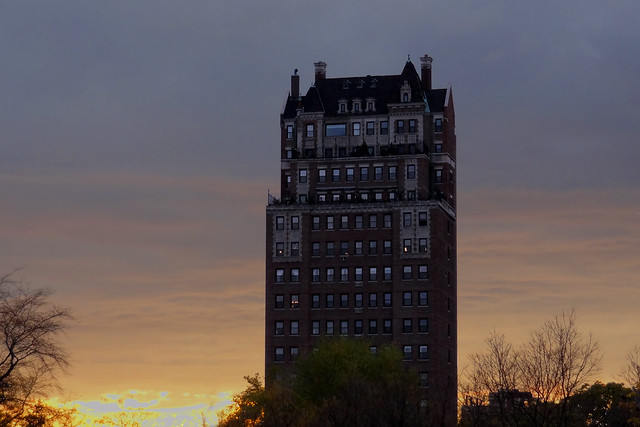low: (259, 50, 466, 427)
